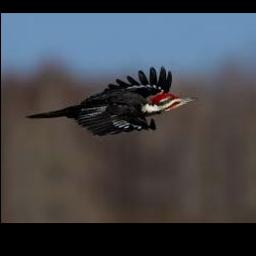Woodpecker: (26, 66, 199, 136)
